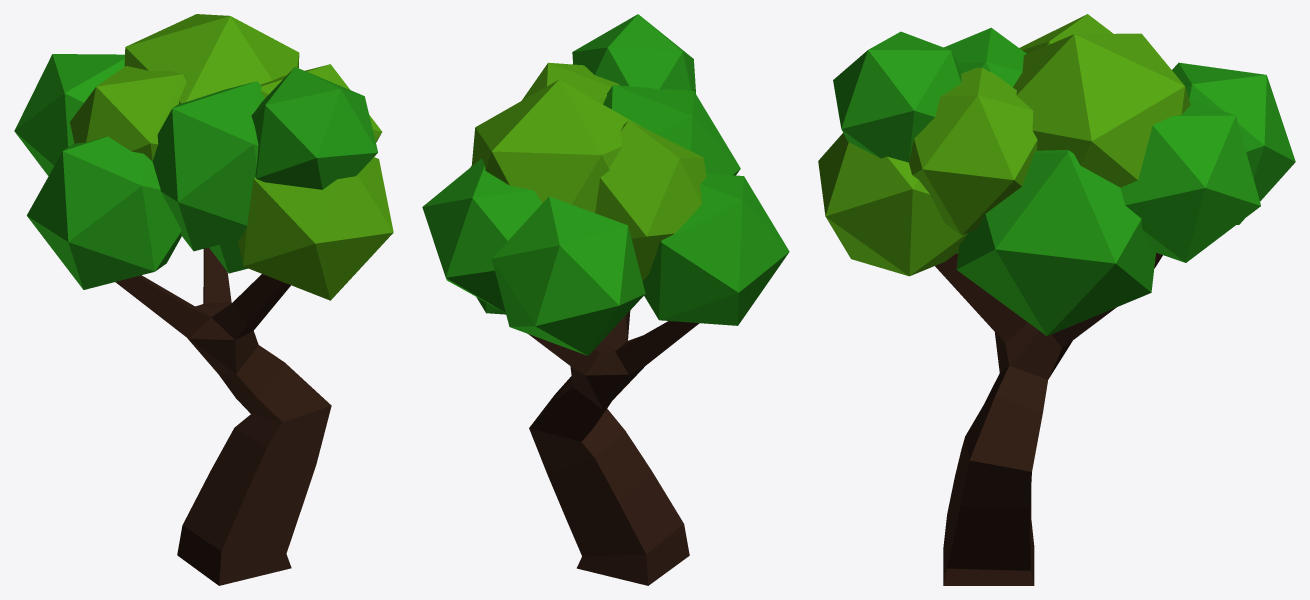
File: tree.obj
The picture shows the model from 3 angles, left to right: view 1: azimuth 30°, elevation 25°; view 2: azimuth 150°, elevation 25°; view 3: azimuth 270°, elevation 25°; orthographic projection. The views are drawn at different scales.
Visible parts, largest first — view 1: Tree_3; view 2: Tree_3; view 3: Tree_3.
Part boxes in pixels (<box>): Tree_3: <box>14,14,393,585</box>; Tree_3: <box>422,14,789,585</box>; Tree_3: <box>818,14,1295,585</box>.
Size of the model in its own units: 2.22 by 3.5 by 2.75.
